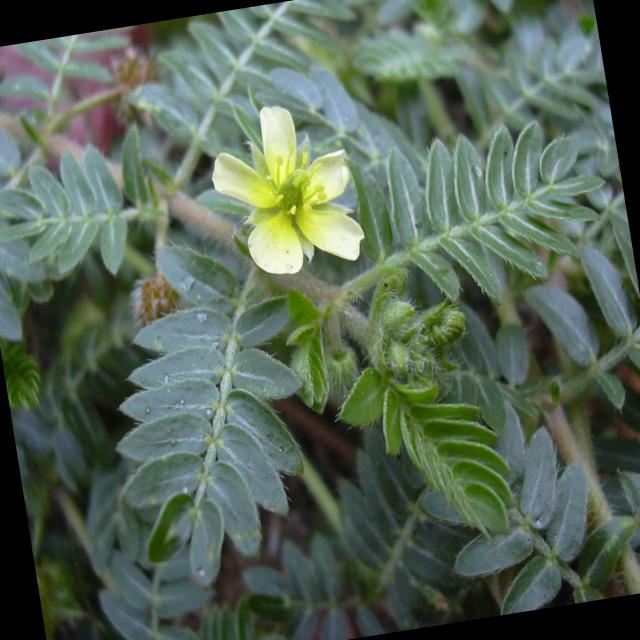Gokharu: (284, 202, 640, 640), (0, 8, 483, 316), (246, 18, 634, 308), (29, 205, 338, 538), (219, 108, 387, 294)
